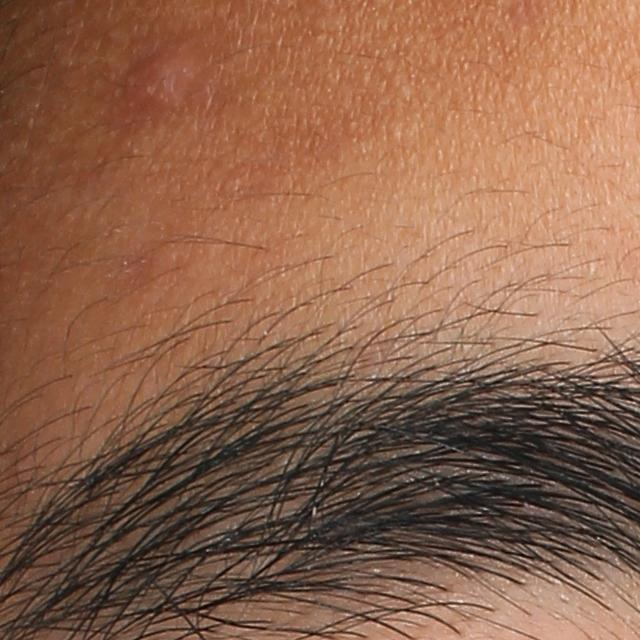hypertrophic_scar: (119, 47, 211, 126)
